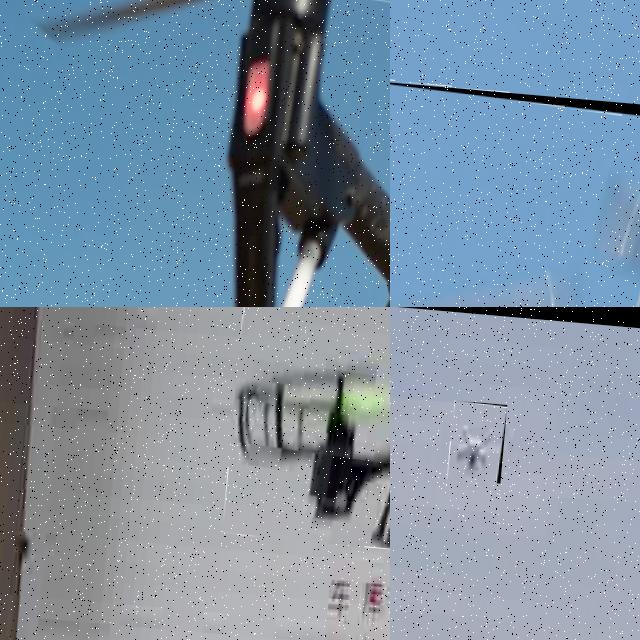0: (222, 307, 390, 553), (447, 400, 507, 483)
drone: (0, 0, 390, 307), (390, 77, 640, 307)
